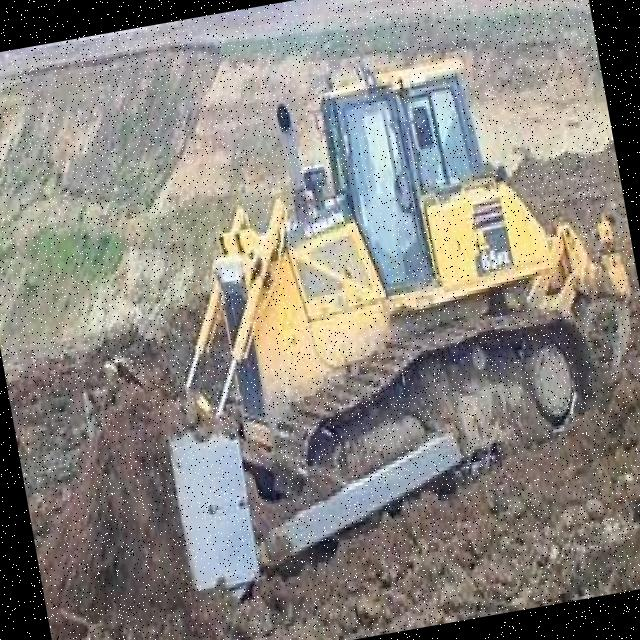Bulldozer: (61, 9, 640, 589)
